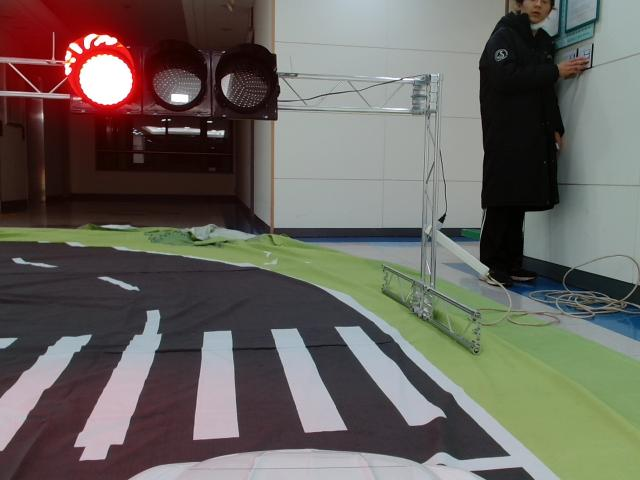crosswalk: (1, 326, 449, 451)
traffic light-red-: (66, 36, 278, 120)
